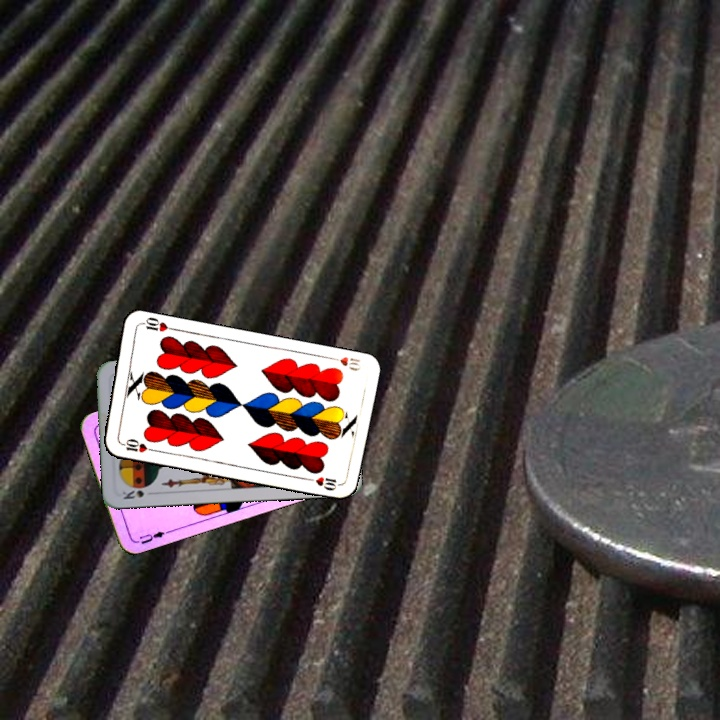EU: (131, 524, 171, 547)
H10: (116, 435, 157, 455), (324, 353, 363, 374)
SK: (118, 486, 147, 502)
